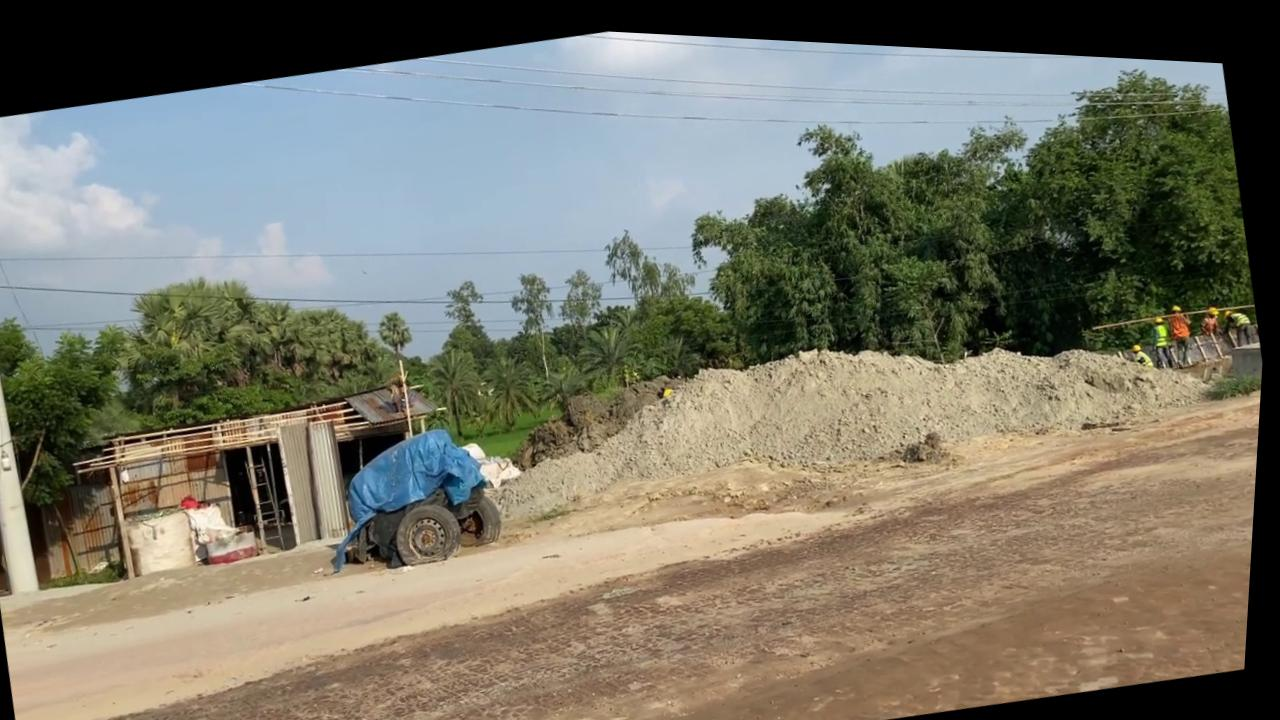Animal: (314, 407, 518, 580)
Obstacle: (1229, 325, 1267, 370)
Pole: (0, 121, 70, 598)
Tree: (1087, 276, 1269, 394)
Upstairs: (465, 246, 1239, 550)
